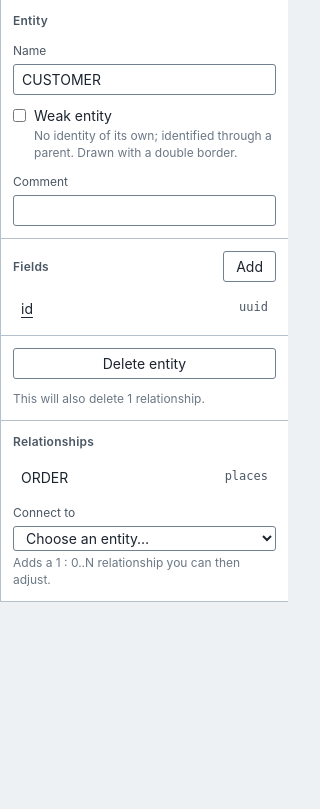
Test: fields › opens the editor when a field is picked
The width and height of the screenshot is (320, 809).
Click the button "id uuid": (27, 309) [13,294,276,324]
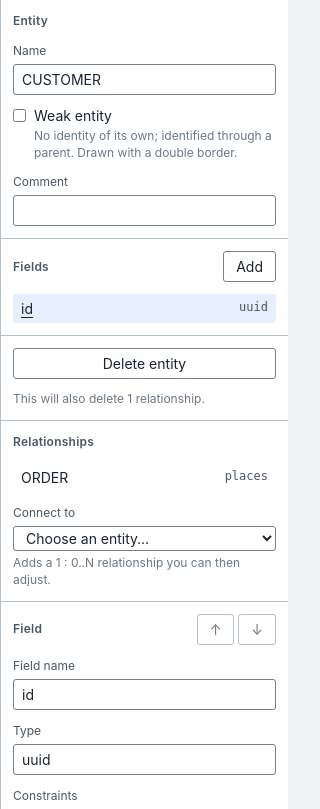
Result: the field labelled "Type" holds "uuid" at [13,744,276,775]
